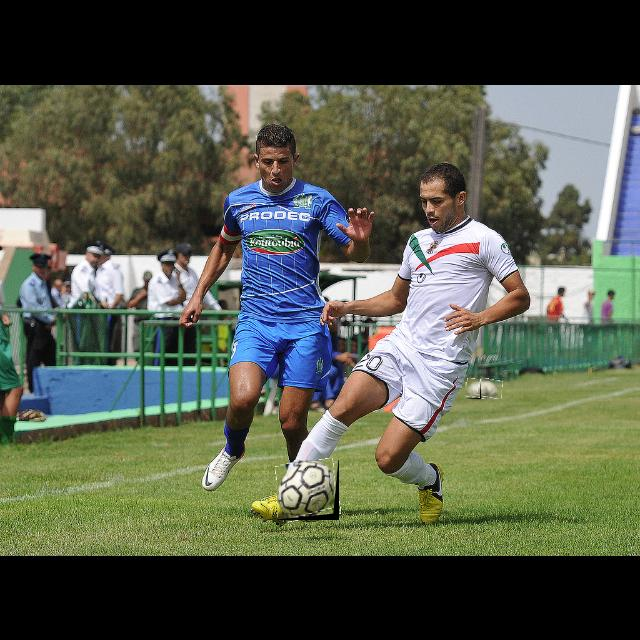Football: (277, 460, 339, 520), (465, 379, 489, 399), (480, 379, 502, 399)
